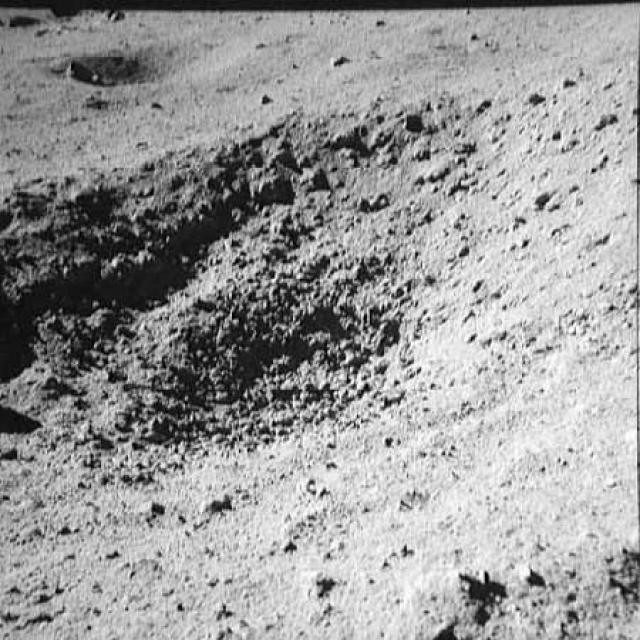crater: (69, 35, 232, 81)
